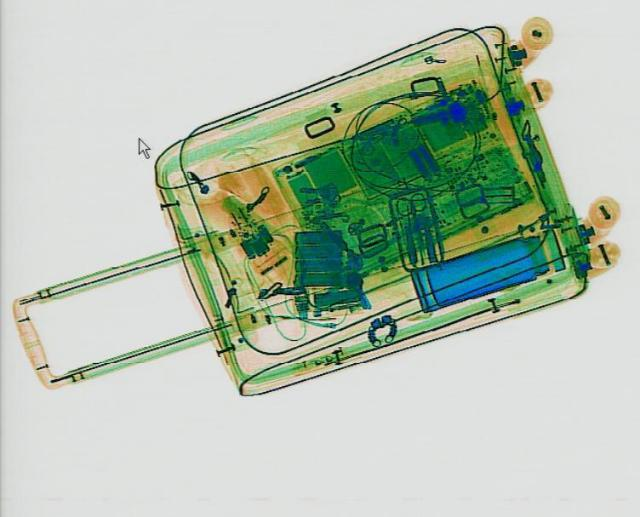Scissors: (390, 192, 438, 263)
